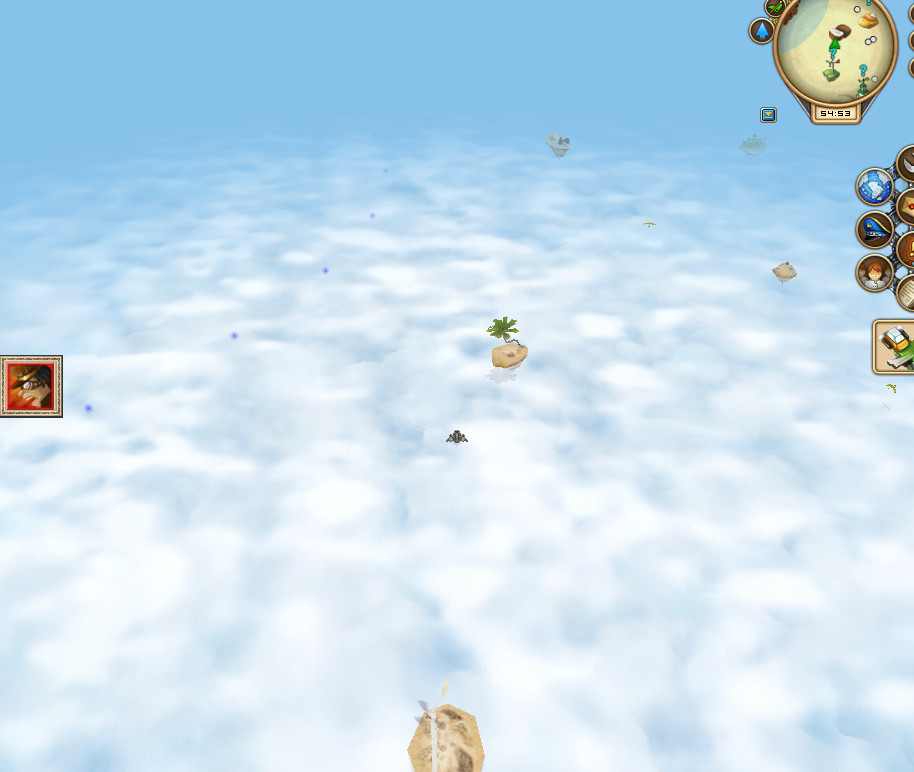palm: (483, 313, 532, 376)
